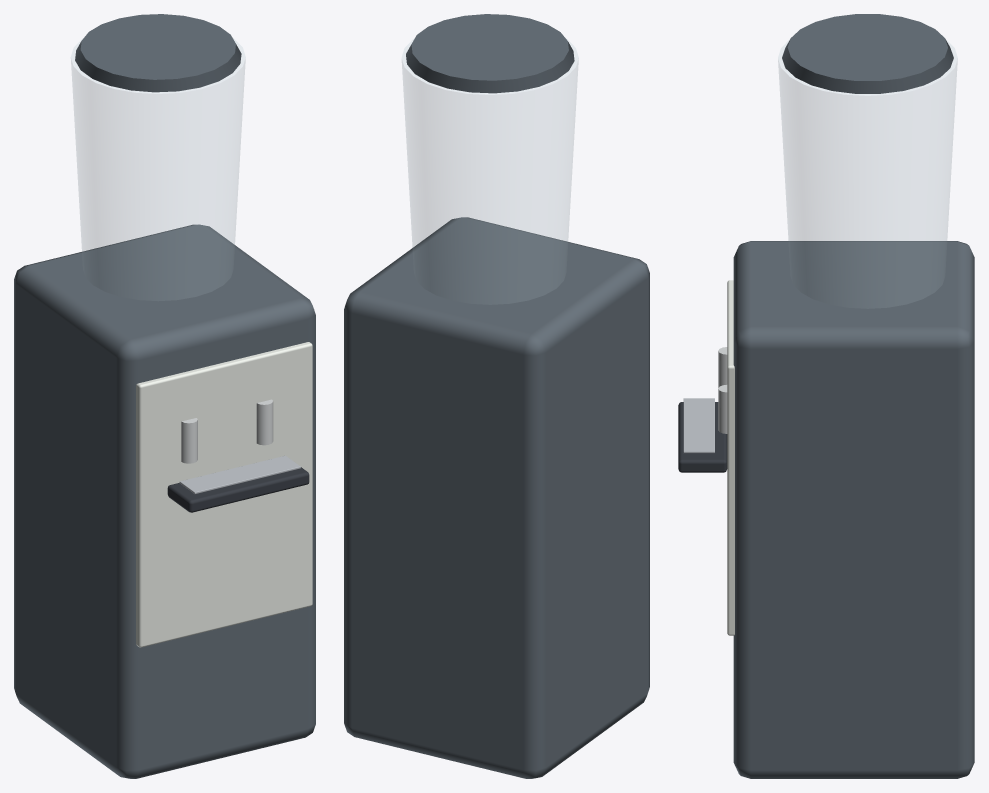
File: water_cooler01.glb
3 views of the same model, side by side, from view 1: azimuth 30°, elevation 25°; view 2: azimuth 150°, elevation 25°; view 3: azimuth 270°, elevation 25° (orthographic). The views are drawn at different scales.
Parts seen in each view (by area): view 1: housing, front, jug, lid, drip_tray, drip_grid, tap; view 2: housing, jug, lid; view 3: housing, jug, lid, front, drip_grid, drip_tray, tap.
Boxes of the visible parts, bbox=[...] form: housing: bbox=[14, 224, 315, 778]; front: bbox=[136, 342, 312, 647]; jug: bbox=[71, 38, 245, 300]; lid: bbox=[75, 14, 241, 92]; drip_tray: bbox=[167, 467, 309, 512]; drip_grid: bbox=[179, 455, 300, 494]; tap: bbox=[181, 399, 273, 463]; housing: bbox=[344, 217, 649, 778]; jug: bbox=[402, 39, 578, 304]; lid: bbox=[406, 14, 574, 93]; housing: bbox=[733, 241, 974, 778]; jug: bbox=[778, 39, 957, 308]; lid: bbox=[782, 14, 953, 93]; front: bbox=[727, 280, 734, 635]; drip_grid: bbox=[683, 398, 714, 453]; drip_tray: bbox=[678, 402, 727, 472]; tap: bbox=[718, 347, 727, 433].
Size of the model in its own units: 0.41 by 1.33 by 0.5165.
